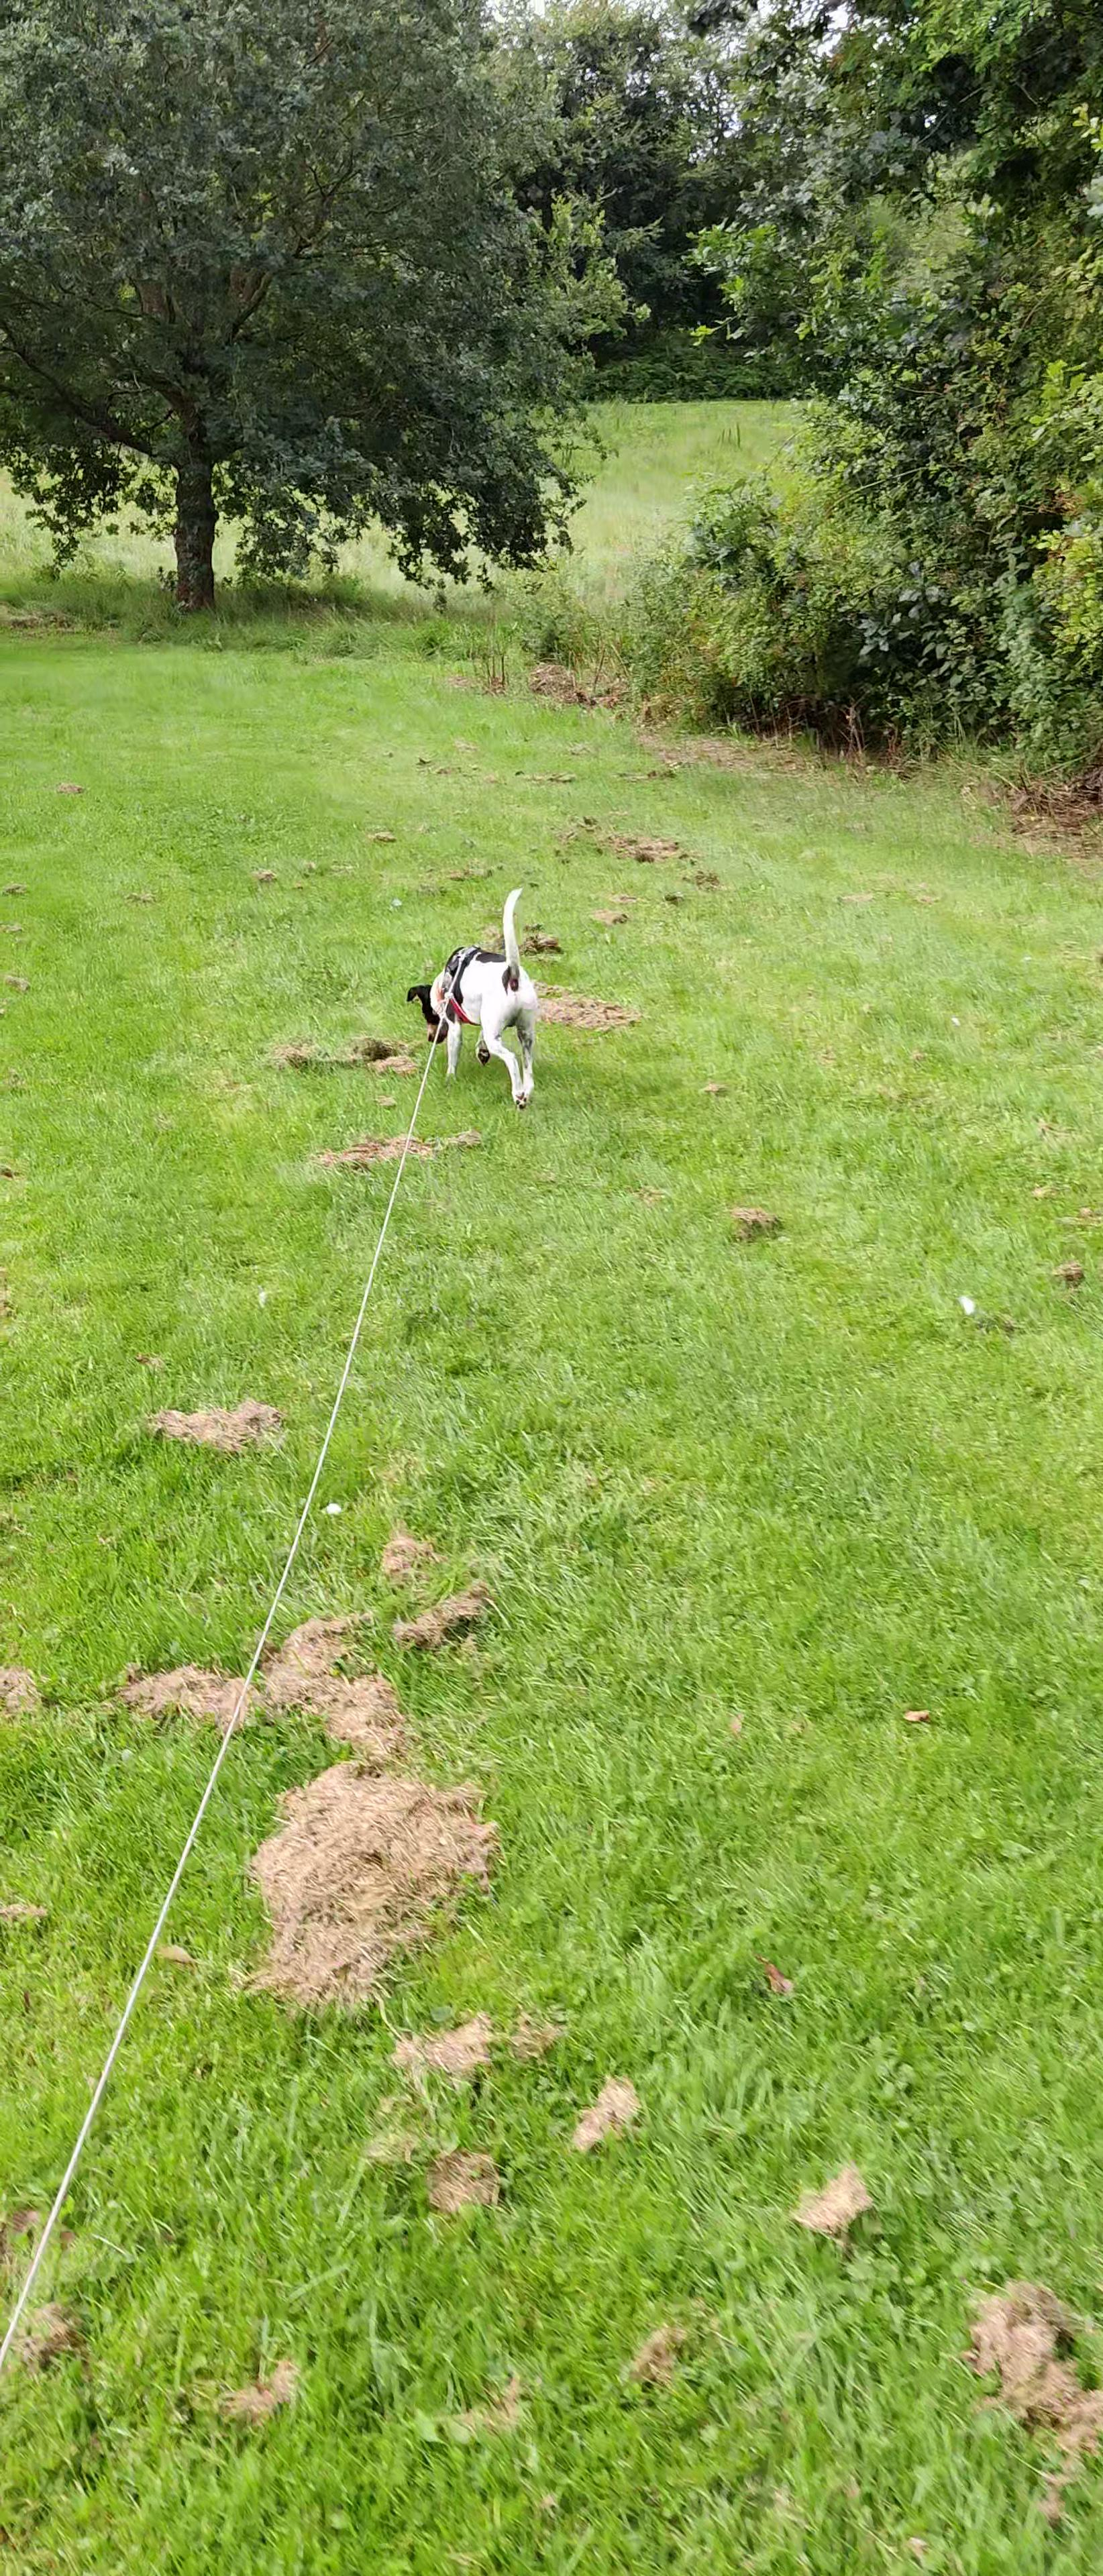Dog: (404, 887, 542, 1111)
